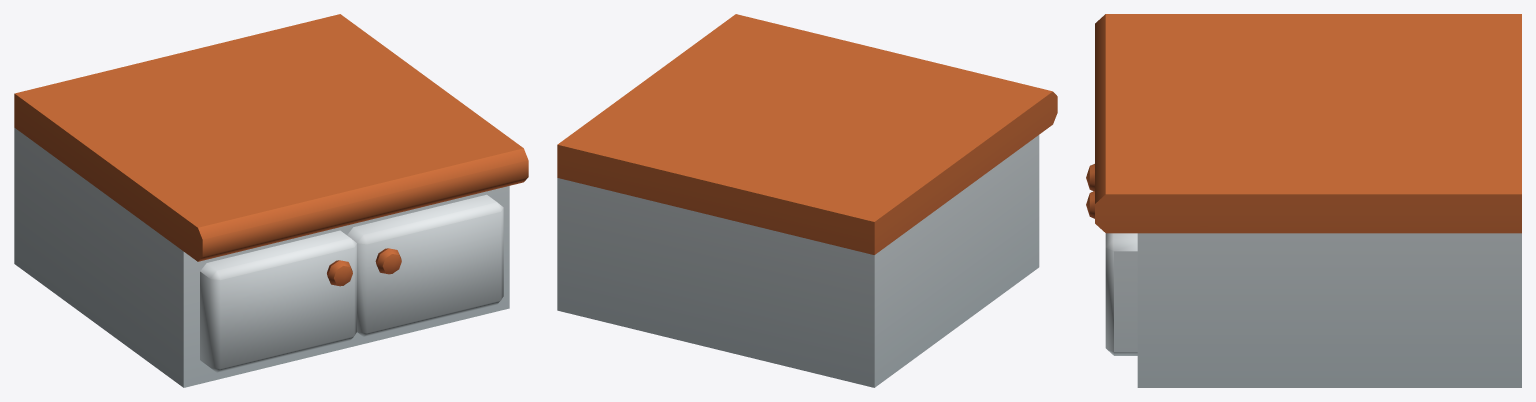
Rendered from kitchencounter_straight_B.glb.
The picture shows the model from 3 angles, left to right: view 1: azimuth 30°, elevation 25°; view 2: azimuth 150°, elevation 25°; view 3: azimuth 270°, elevation 25°; orthographic projection. The views are drawn at different scales.
Visible parts, largest first — view 1: kitchencounter_straight_B; view 2: kitchencounter_straight_B; view 3: kitchencounter_straight_B.
Boxes of the visible parts, bbox=[...] form: kitchencounter_straight_B: bbox=[14, 14, 528, 387]; kitchencounter_straight_B: bbox=[557, 14, 1057, 387]; kitchencounter_straight_B: bbox=[1086, 14, 1521, 387].
Size of the model in its own units: 2 by 1 by 2.04.
Materials: 1 (1 with a texture image).
